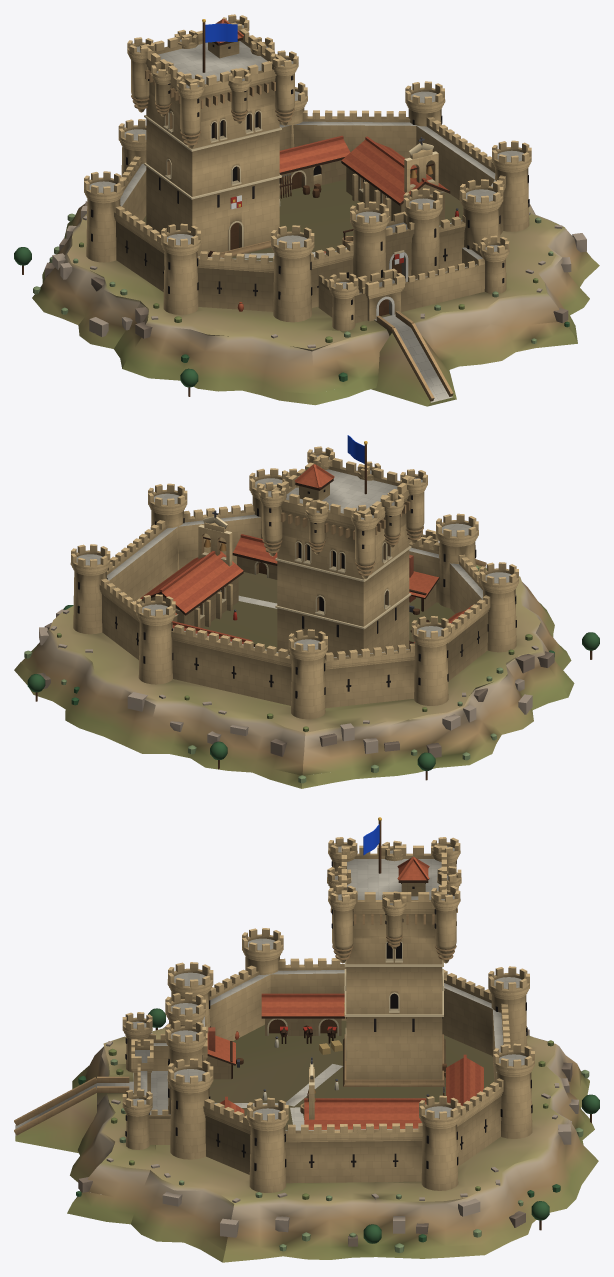
Rendered from lm_reconquista.glb.
The picture shows the model from 3 angles, top to bottom: view 1: azimuth 30°, elevation 25°; view 2: azimuth 150°, elevation 25°; view 3: azimuth 270°, elevation 25°; orthographic projection. The views are drawn at different scales.
Visible parts, largest first — view 1: lm_reconquista; view 2: lm_reconquista; view 3: lm_reconquista.
Part boxes in pixels (x1,y1,x2,y2): lm_reconquista: [14, 14, 599, 406]; lm_reconquista: [14, 435, 599, 788]; lm_reconquista: [14, 817, 599, 1262].
Bounding box in the file's own units: 2.34 × 1.31 × 2.44.
Materials: 1 (1 with a texture image).
